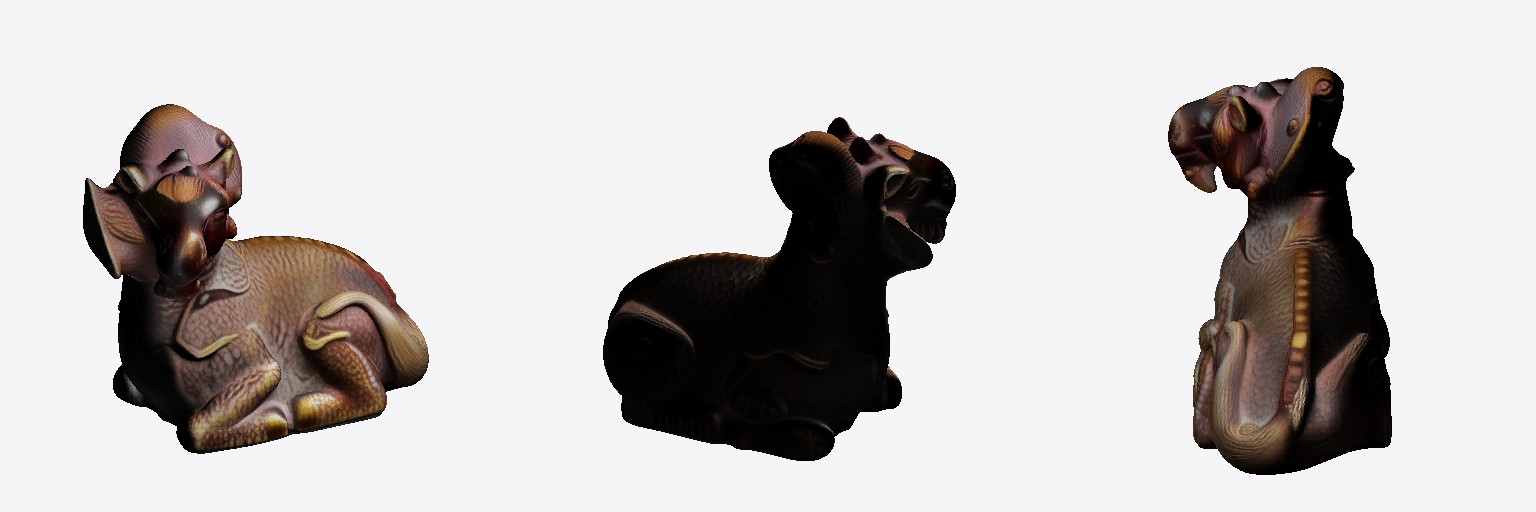
3 views of the same model, side by side, from view 1: azimuth 30°, elevation 25°; view 2: azimuth 150°, elevation 25°; view 3: azimuth 270°, elevation 25° (orthographic).
Visible parts, largest first — view 1: geometry_0; view 2: geometry_0; view 3: geometry_0.
Boxes of the visible parts, box(x1,y1,x2,y2) form: geometry_0: box(83, 104, 428, 453); geometry_0: box(603, 117, 955, 460); geometry_0: box(1168, 67, 1391, 474).
Size of the model in its own units: 0.9984 by 0.929 by 0.6198.
Materials: 1 (1 with a texture image).